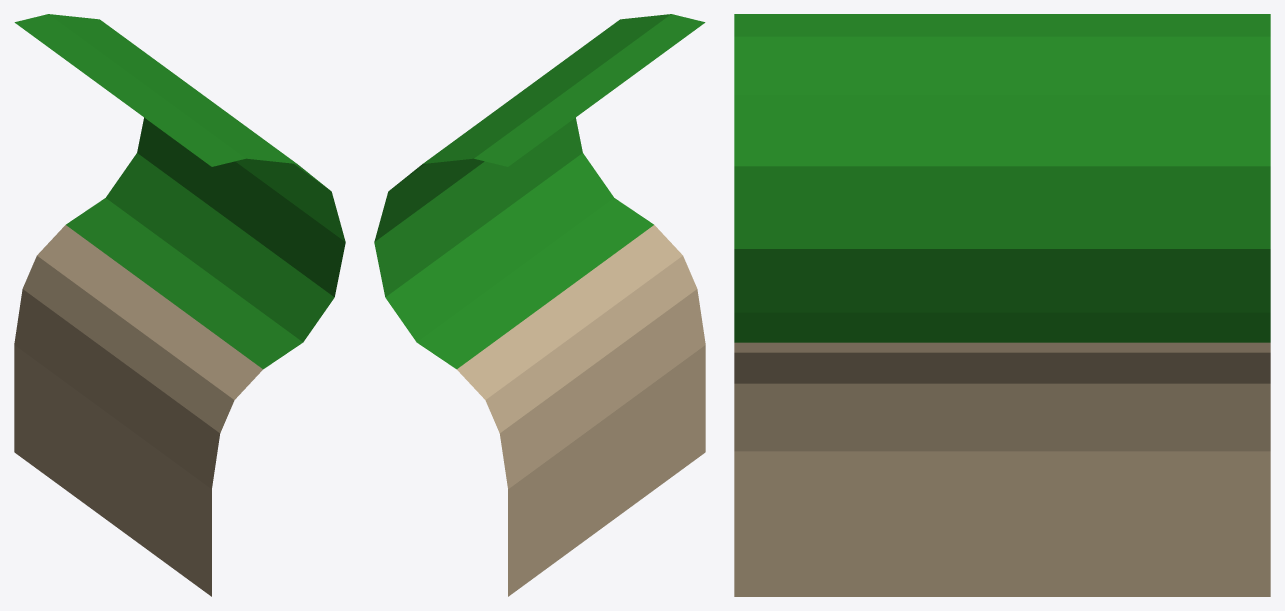
Rendered from Escarpment_Terrain_Side_Top.obj.
3 renders of one model, left to right at view 1: azimuth 30°, elevation 25°; view 2: azimuth 150°, elevation 25°; view 3: azimuth 270°, elevation 25°, orthographic. The views are drawn at different scales.
Parts seen in each view (by area): view 1: object1; view 2: object1; view 3: object1.
Part boxes in pixels (x1,y1,x2,y2): object1: (14,14,345,596); object1: (374,14,705,596); object1: (734,14,1270,596).
Size of the model in its own units: 0.3909 by 1.2 by 1.
